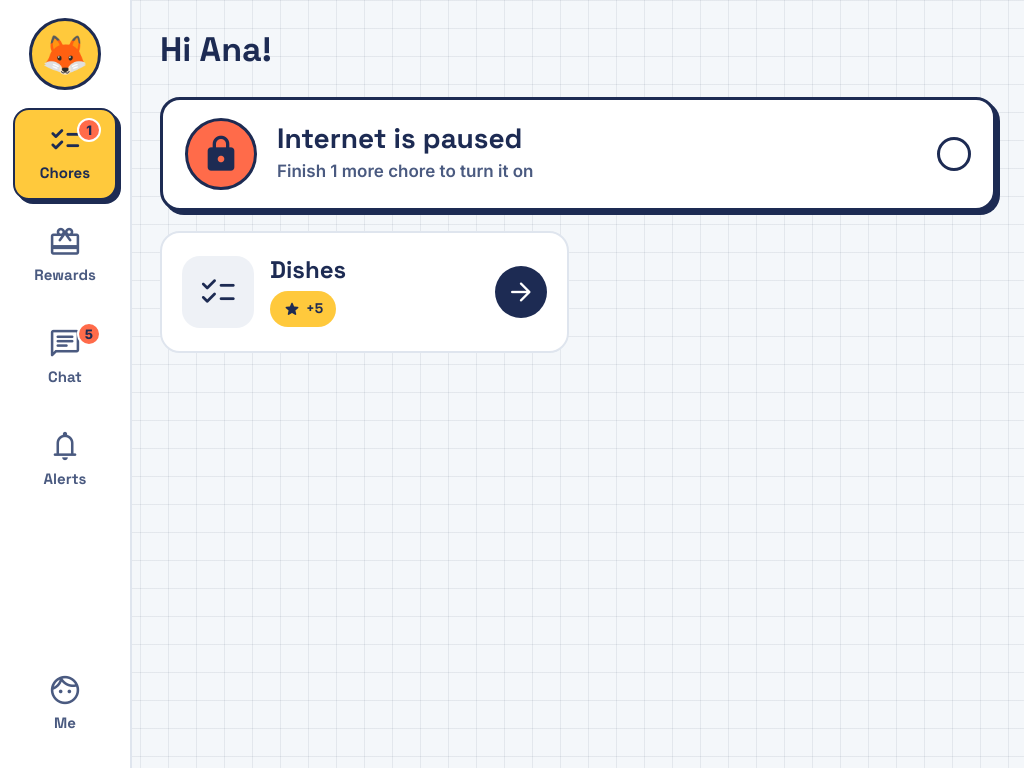
Scenario: kid chat › the Chat nav item opens the dock list, with a summed unread badge
The width and height of the screenshot is (1024, 768).
Click the button with aria-label "Chat 5" at (65,358), box 13,312 -> 117,404
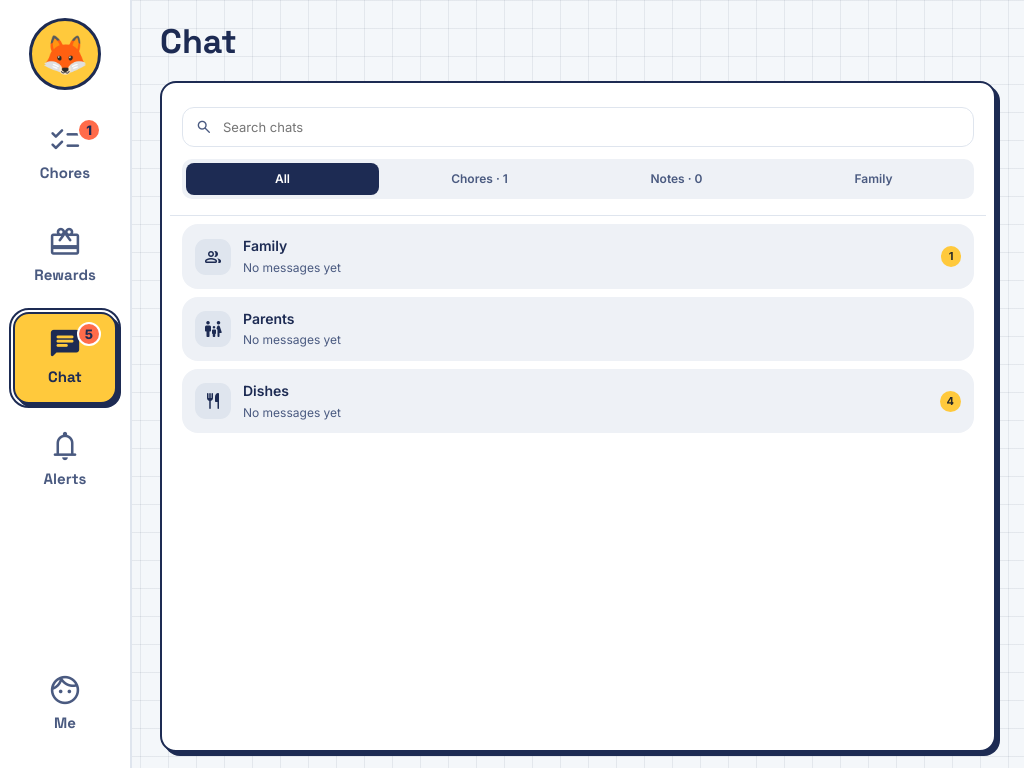
Result: the list named "Conversations" shows "Family" at 182,224 -> 974,289
Result: the list named "Conversations" shows "Parents" at 182,297 -> 974,361
Result: the element named "Chat" is shown
